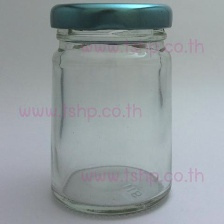bottle: (48, 1, 177, 218)
